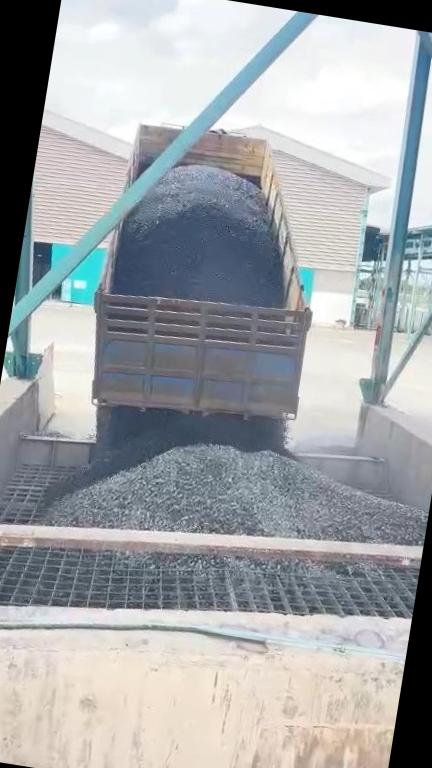gravel: (46, 445, 427, 544), (114, 166, 284, 307), (116, 552, 322, 581)
